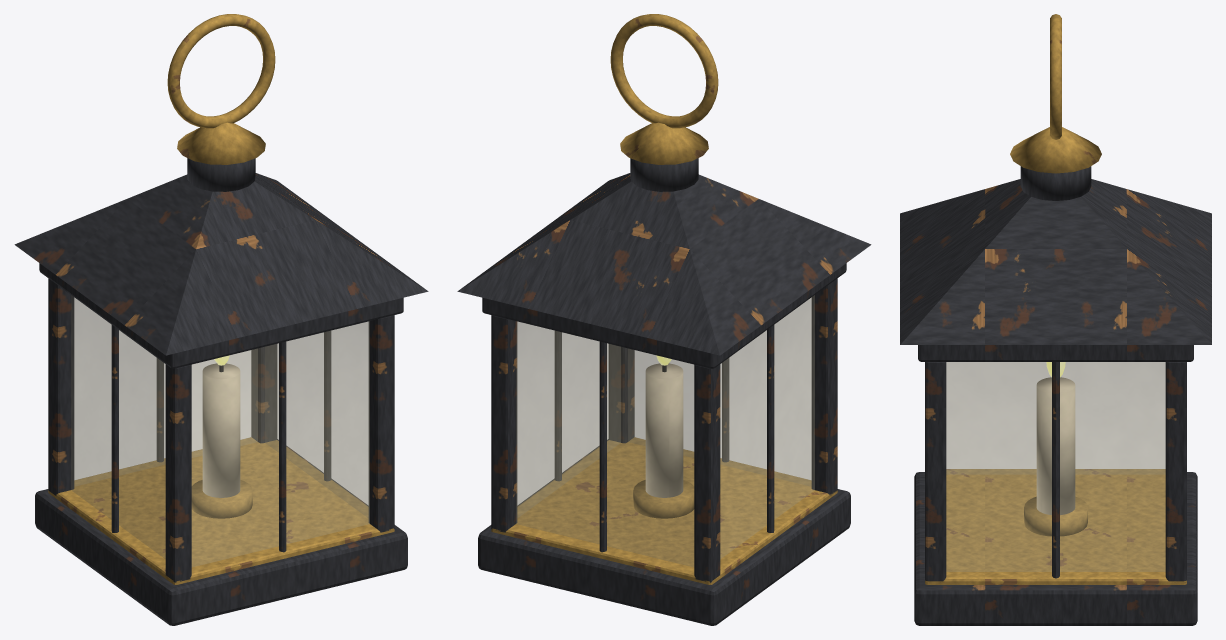
Rendered from Laterne_kuenstlich.glb.
3 views of the same model, side by side, from view 1: azimuth 30°, elevation 25°; view 2: azimuth 150°, elevation 25°; view 3: azimuth 270°, elevation 25° (orthographic). The views are drawn at different scales.
Visible parts, largest first — view 1: Dach, Glasscheibe.003, Fussleiste, Glasscheibe.002, Fussplatte, Glasscheibe.001, Glasscheibe, Eckpfosten, Eckpfosten.002, Eckpfosten.001, Kerze, Deckrahmen (+9 smaller); view 2: Dach, Glasscheibe.001, Fussleiste, Glasscheibe.002, Fussplatte, Glasscheibe.003, Glasscheibe, Eckpfosten.001, Eckpfosten.003, Eckpfosten, Kerze, Deckrahmen (+9 smaller); view 3: Dach, Glasscheibe, Fussleiste, Glasscheibe.002, Fussplatte, Eckpfosten.003, Eckpfosten.002, Deckrahmen, Kerze, Abzughut, Rauchabzug, Schutzbuegel (+2 smaller).
Boxes of the visible parts, x1,y1,x2,y2 form: Dach: [14, 173, 428, 355]; Glasscheibe.003: [192, 321, 369, 566]; Fussleiste: [48, 437, 394, 584]; Glasscheibe.002: [71, 295, 165, 558]; Fussplatte: [35, 439, 407, 625]; Glasscheibe.001: [75, 298, 257, 485]; Glasscheibe: [265, 322, 367, 517]; Eckpfosten: [165, 364, 191, 582]; Eckpfosten.002: [368, 315, 394, 532]; Eckpfosten.001: [48, 278, 74, 495]; Kerze: [202, 363, 240, 497]; Deckrahmen: [39, 263, 403, 368]; Dach: [457, 173, 871, 355]; Glasscheibe.001: [516, 321, 693, 566]; Fussleiste: [491, 437, 837, 584]; Glasscheibe.002: [720, 295, 814, 558]; Fussplatte: [478, 439, 850, 625]; Glasscheibe.003: [628, 298, 810, 485]; Glasscheibe: [518, 322, 620, 517]; Eckpfosten.001: [694, 364, 720, 582]; Eckpfosten.003: [491, 315, 517, 532]; Eckpfosten: [811, 278, 837, 495]; Kerze: [645, 363, 683, 497]; Deckrahmen: [482, 263, 846, 368]; Dach: [900, 179, 1211, 344]; Glasscheibe: [946, 362, 1165, 571]; Fussleiste: [925, 469, 1186, 584]; Glasscheibe.002: [947, 362, 1164, 473]; Fussplatte: [914, 472, 1197, 625]; Eckpfosten.003: [1165, 362, 1186, 582]; Eckpfosten.002: [925, 362, 946, 581]; Deckrahmen: [918, 345, 1193, 361]; Kerze: [1036, 377, 1075, 515]; Abzughut: [1010, 127, 1101, 173]; Rauchabzug: [1020, 166, 1091, 200]; Schutzbuegel: [1052, 362, 1059, 578].
Bounding box in the file's own units: 0.088 × 0.1708 × 0.088.
Materials: 6 (4 with a texture image).
